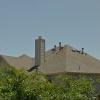Chimney: (28, 31, 49, 74)
